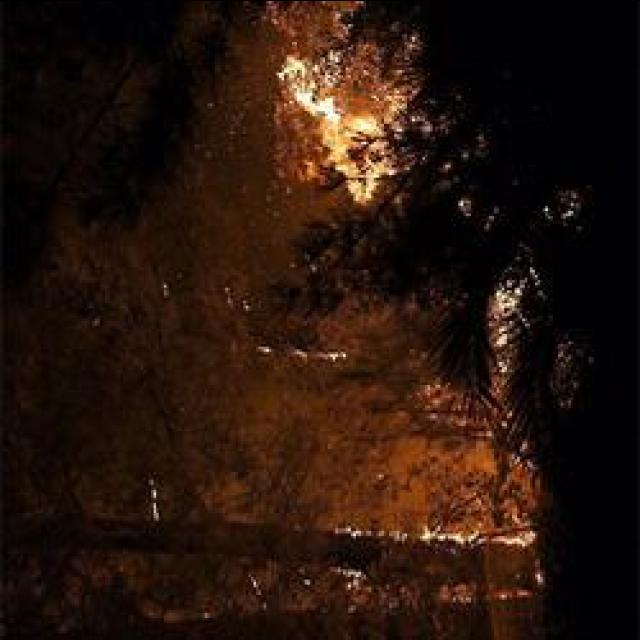fire: (284, 54, 392, 202)
